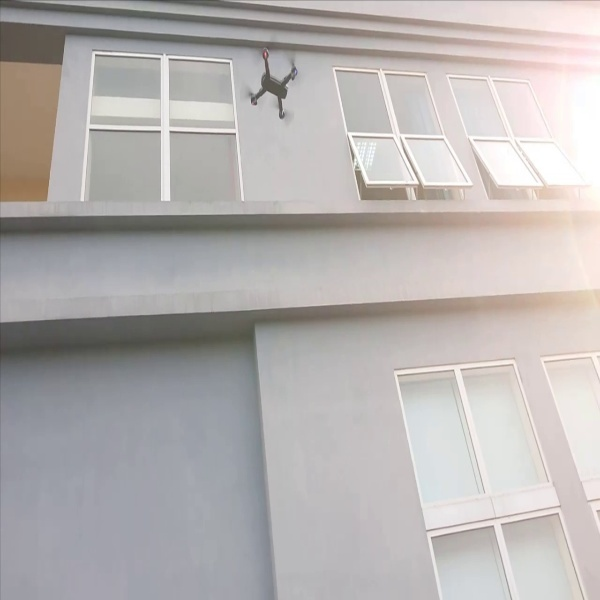drone: (230, 40, 307, 129)
